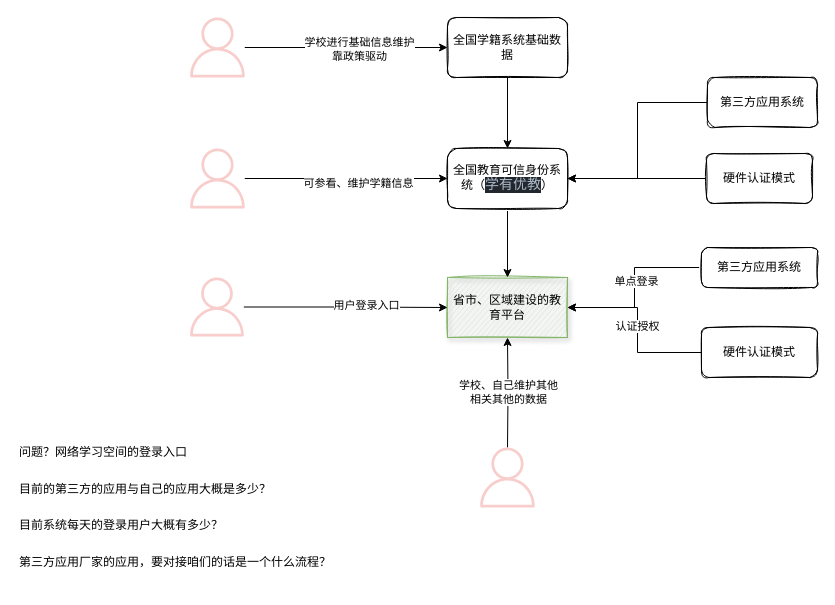
Image size: 835x605. Some labels were removed from this diagram. The shapes that lost their labels are listed below. From the top down, each one's centre as x and y in pixels, then its label:
At (x=217, y=47): "学校".
At (x=217, y=178): "家长+学生".
At (x=216, y=306): "登录用户".
At (x=507, y=477): "学校管理员".
